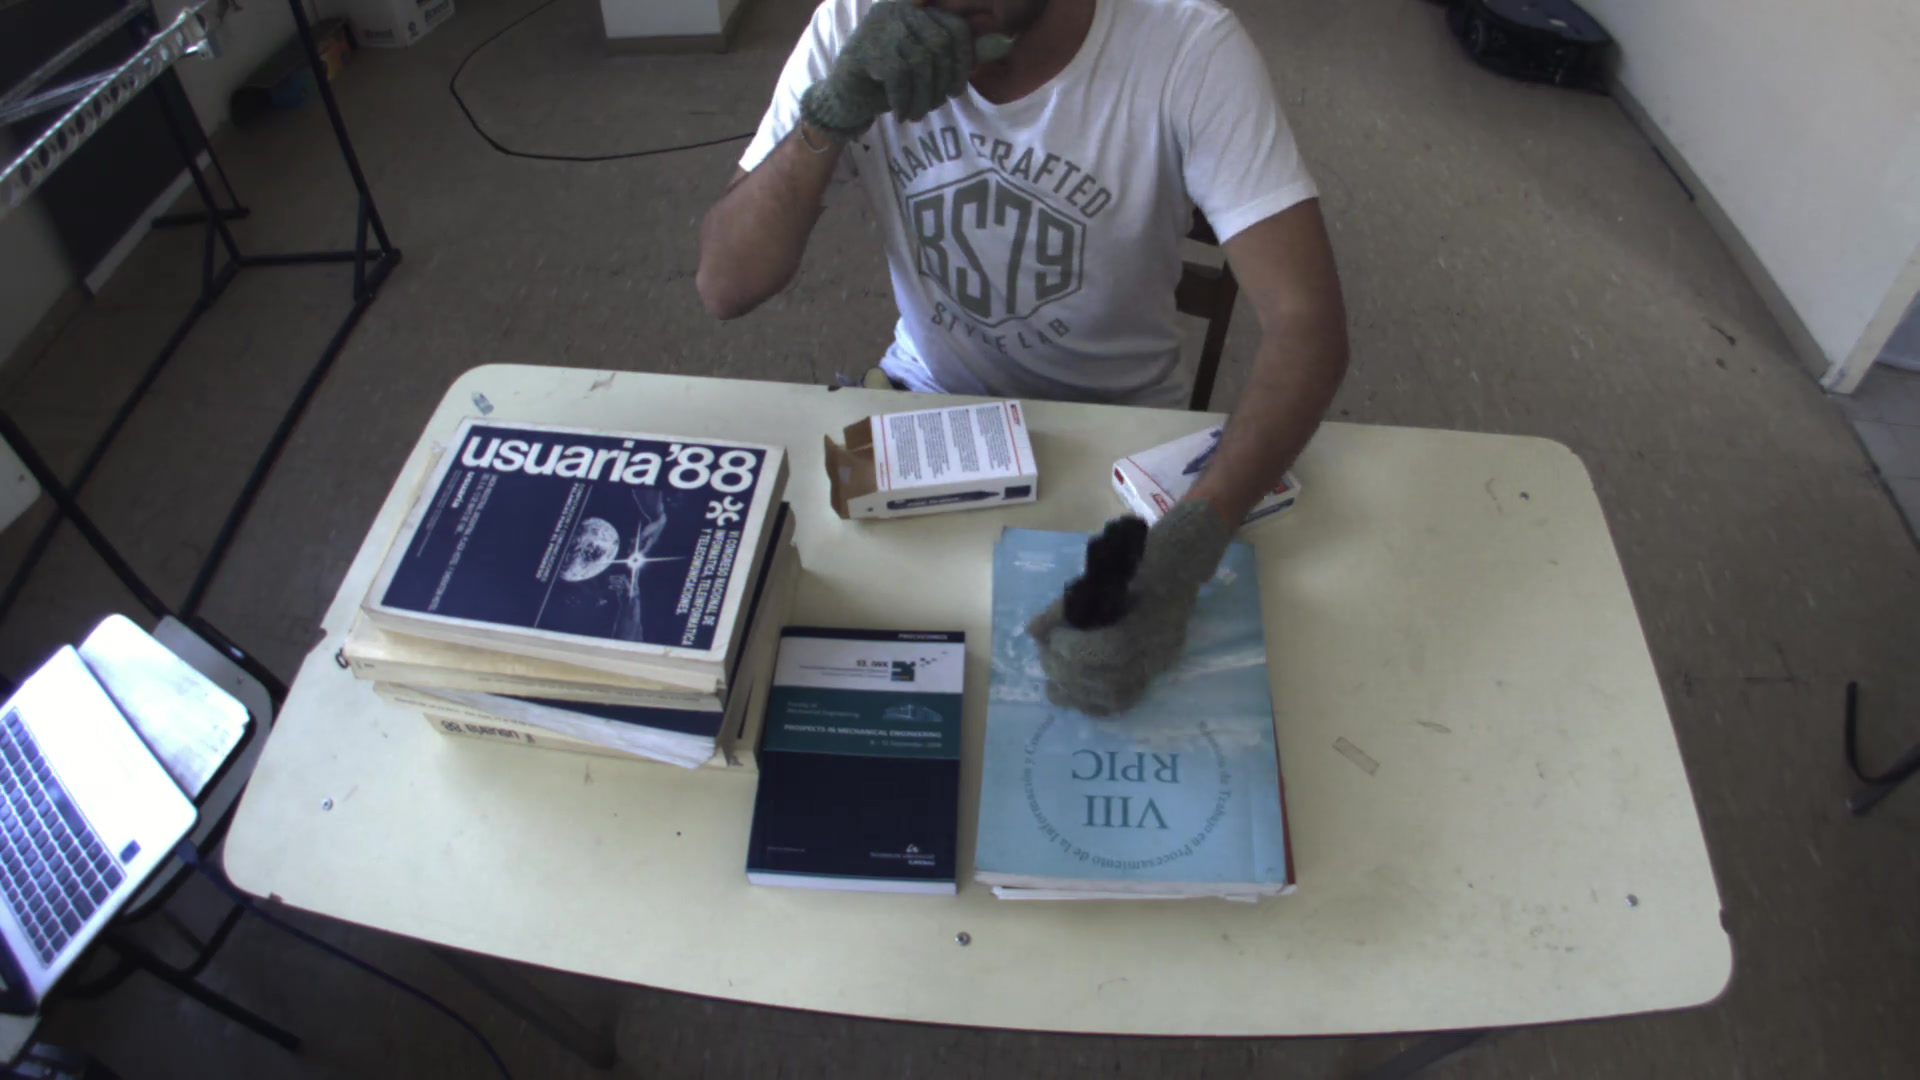hand: (1006, 504, 1240, 727), (799, 1, 1004, 164)
